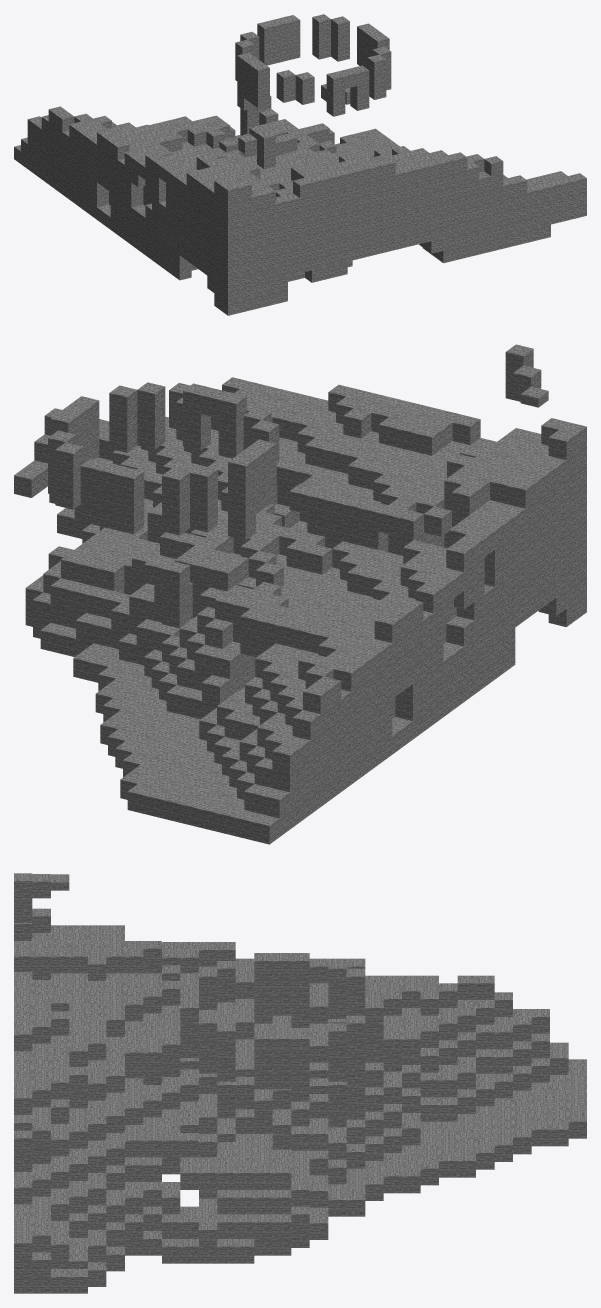
Rendered from lighthouse_stone.obj.
The picture shows the model from 3 angles, top to bottom: view 1: azimuth 30°, elevation 25°; view 2: azimuth 150°, elevation 25°; view 3: azimuth 270°, elevation 25°; orthographic projection. The views are drawn at different scales.
Size of the model in its own units: 30 by 13.5 by 31.
